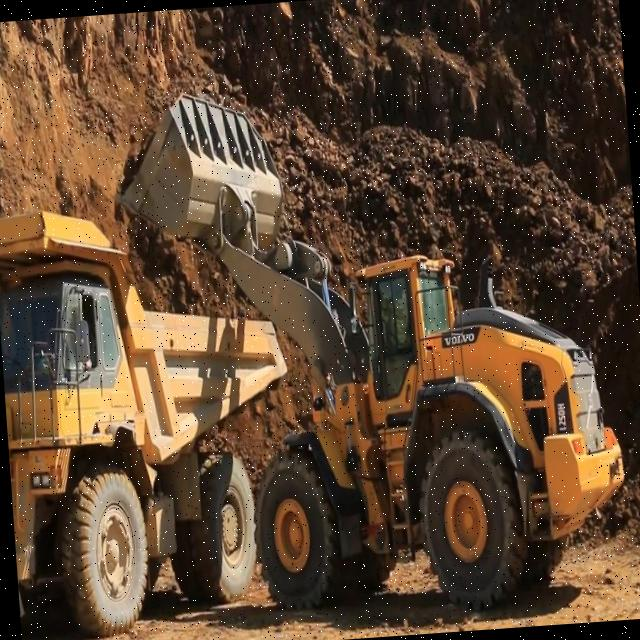Dump Truck: (0, 187, 304, 640)
Loader: (104, 61, 638, 638)
